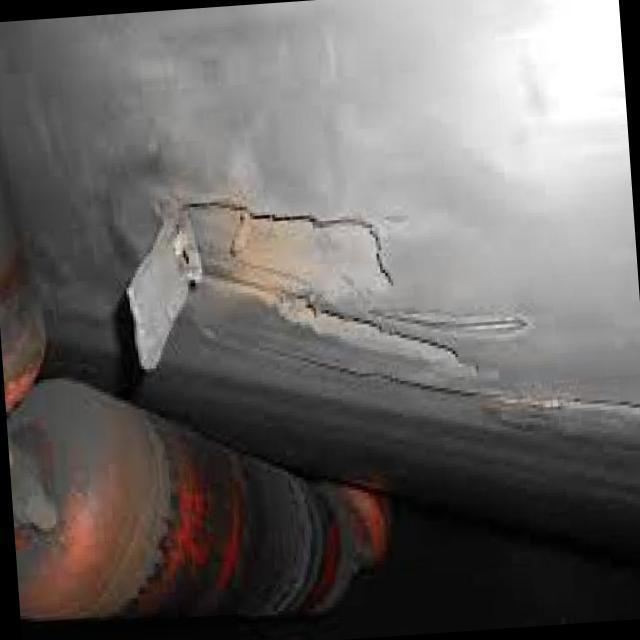Tear: (122, 194, 479, 388)
